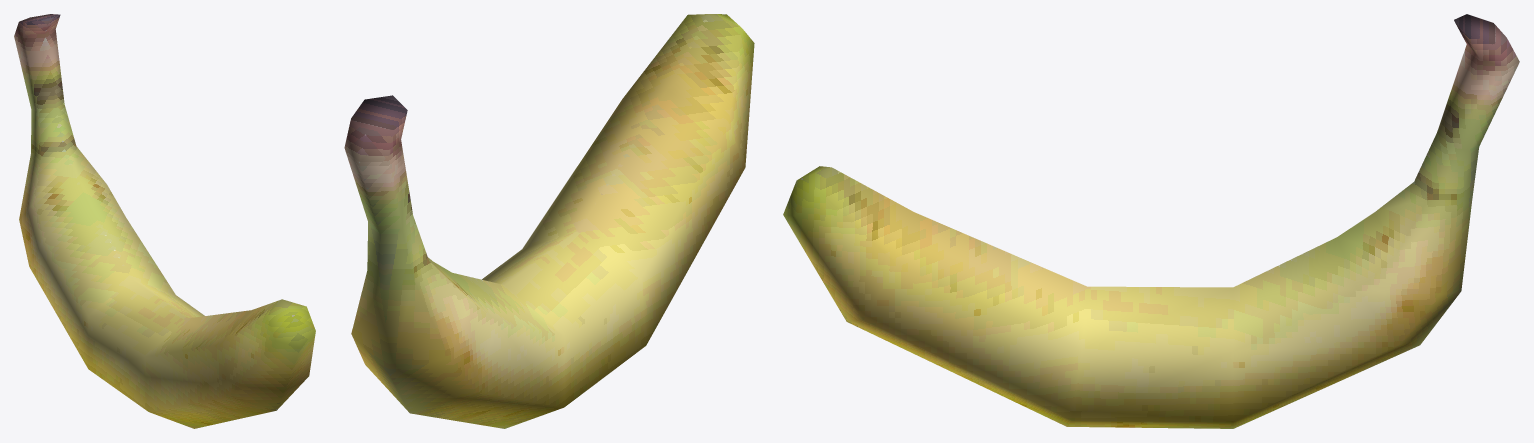
The model's file is psx_banana.glb.
3 views of the same model, side by side, from view 1: azimuth 30°, elevation 25°; view 2: azimuth 150°, elevation 25°; view 3: azimuth 270°, elevation 25° (orthographic). The views are drawn at different scales.
Parts seen in each view (by area): view 1: banana; view 2: banana; view 3: banana.
Boxes of the visible parts, x1,y1,x2,y2 form: banana: [14, 14, 315, 428]; banana: [344, 14, 754, 428]; banana: [783, 14, 1519, 428].
Bounding box in the file's own units: 0.7467 × 2.49 × 4.07.
Materials: 1 (1 with a texture image).
